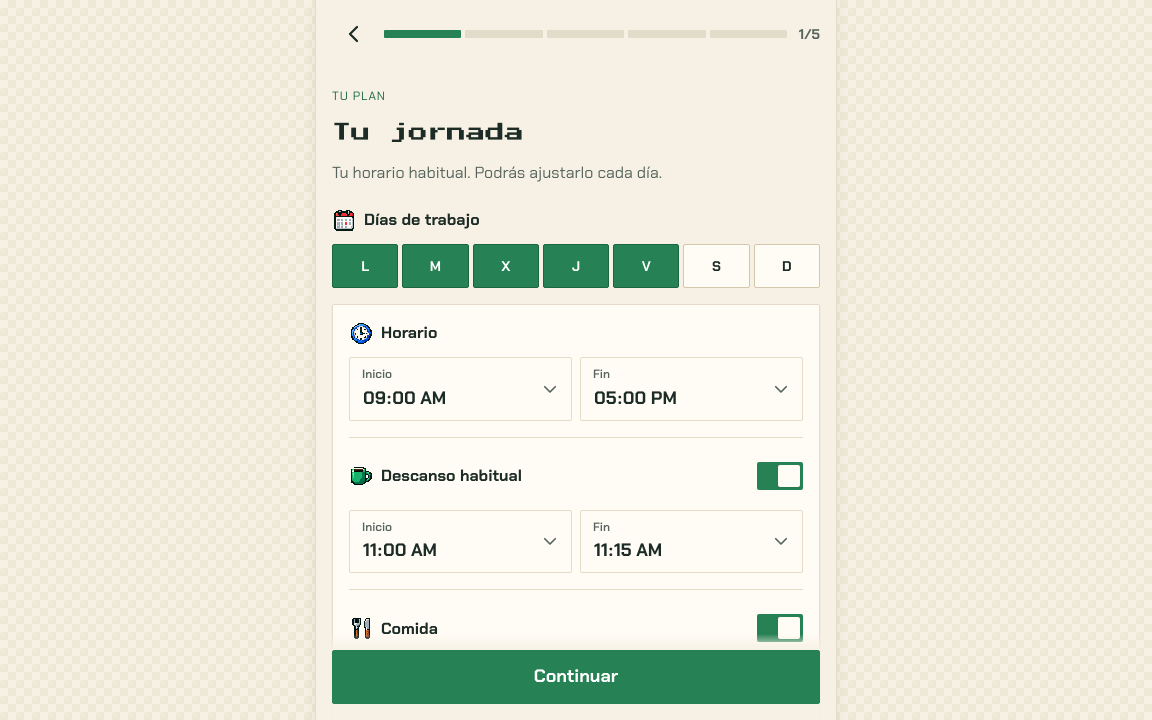
Test: onboarding: workday › blocks Next while a block ends before it starts
Step 1. Replace the text in the 2nd time field labelled "Fin" with "10:45" → (676, 550), box [593,536,760,564]
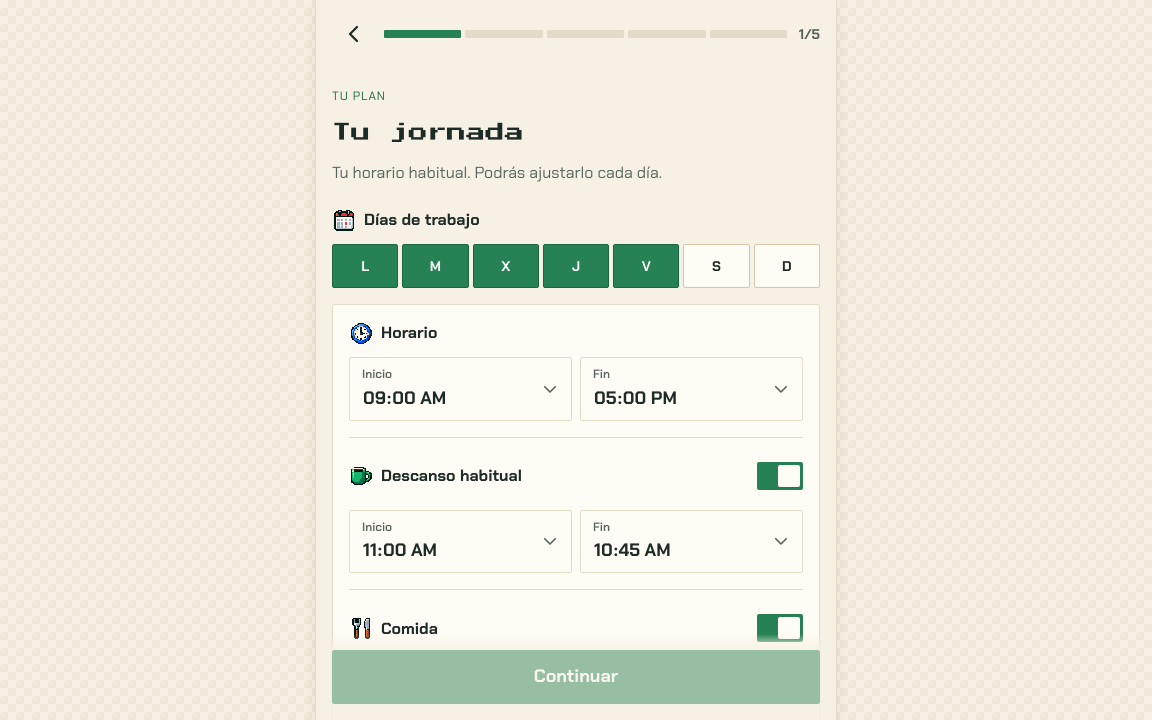
Result: the button "Continuar" is disabled at [332,650,820,704]
Step 2. Replace the text in the 2nd time field labelled "Fin" with "11:20" → (676, 550), box [593,536,760,564]
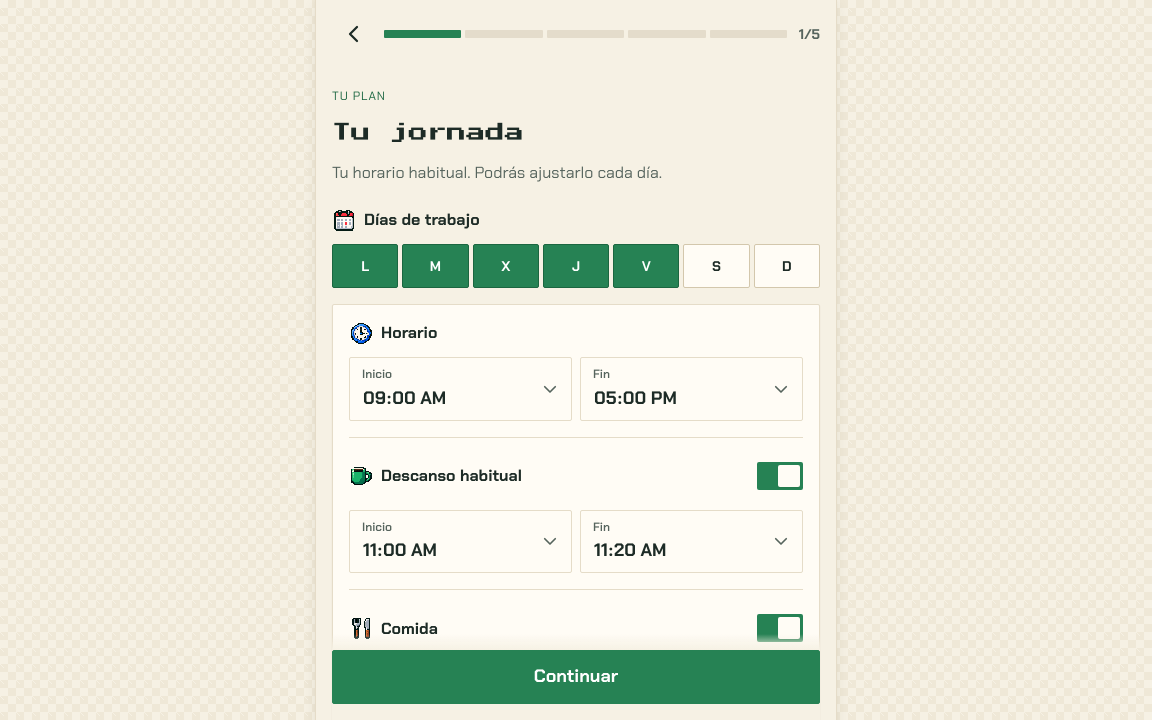
Result: the button "Continuar" is enabled at [332,650,820,704]
